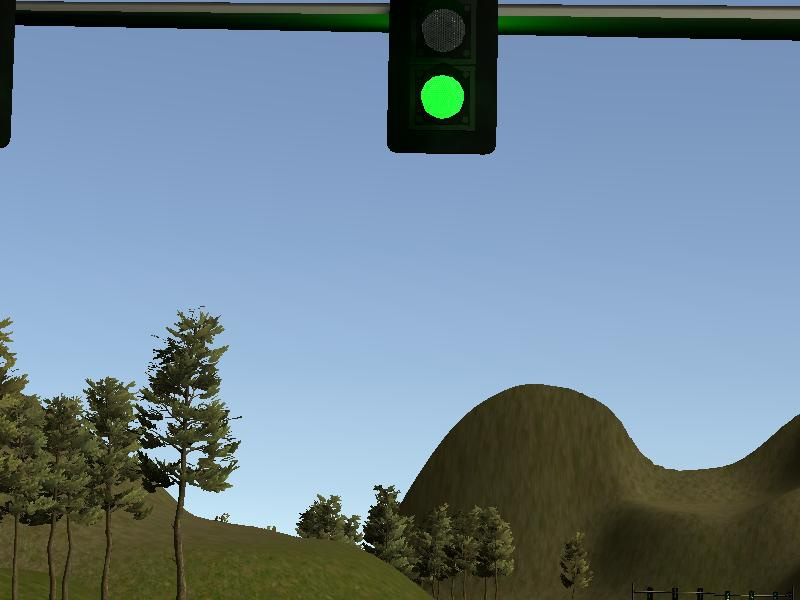Green: (386, 1, 501, 159)
